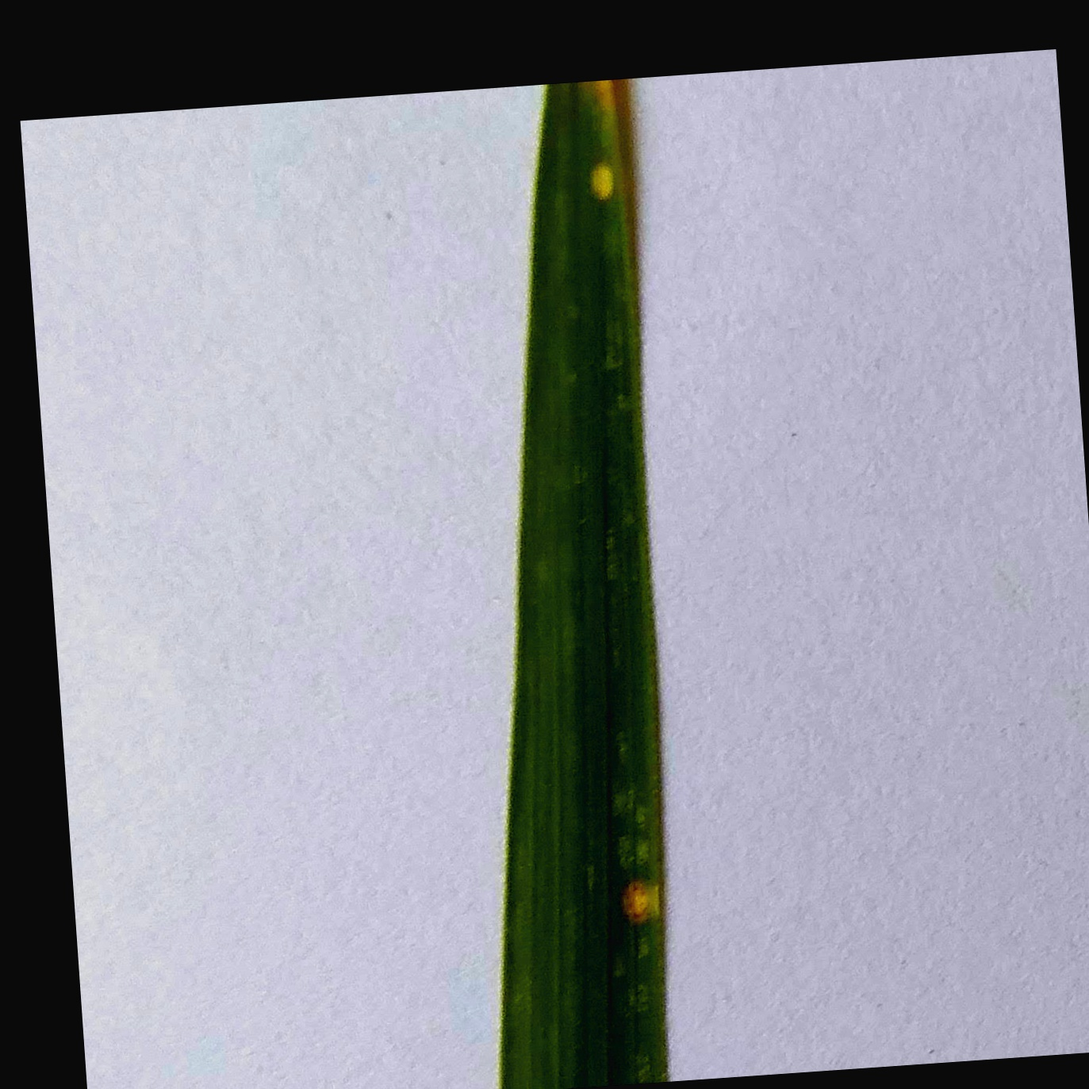Brown_Spot: (586, 848, 670, 932), (577, 149, 640, 213)
